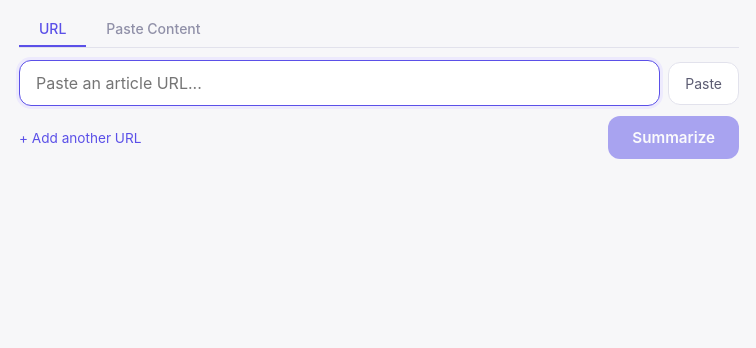
UrlInput › shouldSwitchToPasteContentMode
This screenshot has width=756, height=348.
# Act — click the "Paste Content" tab
Click the button "Paste Content" at (154, 30), box x1=86 y1=12 x2=221 y2=47
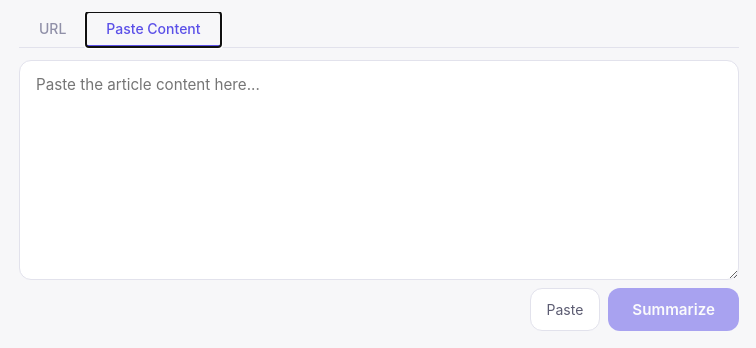
Now the text box with placeholder "Paste the article content here..." is shown
